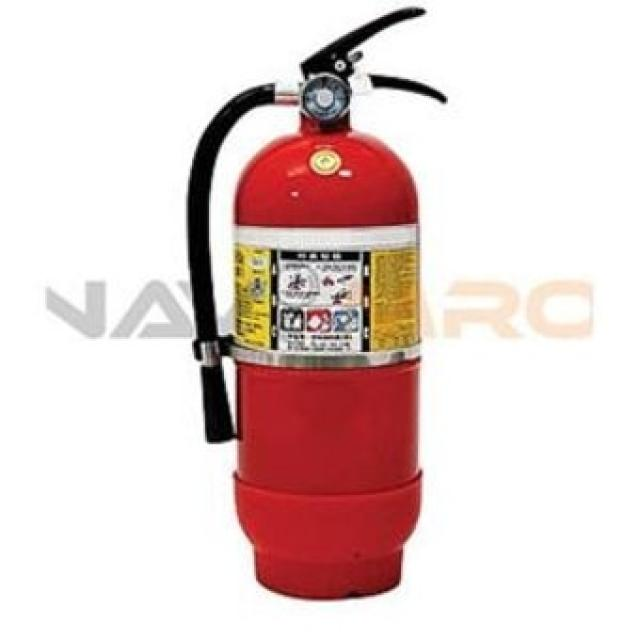pressure gauge: (302, 74, 351, 124)
